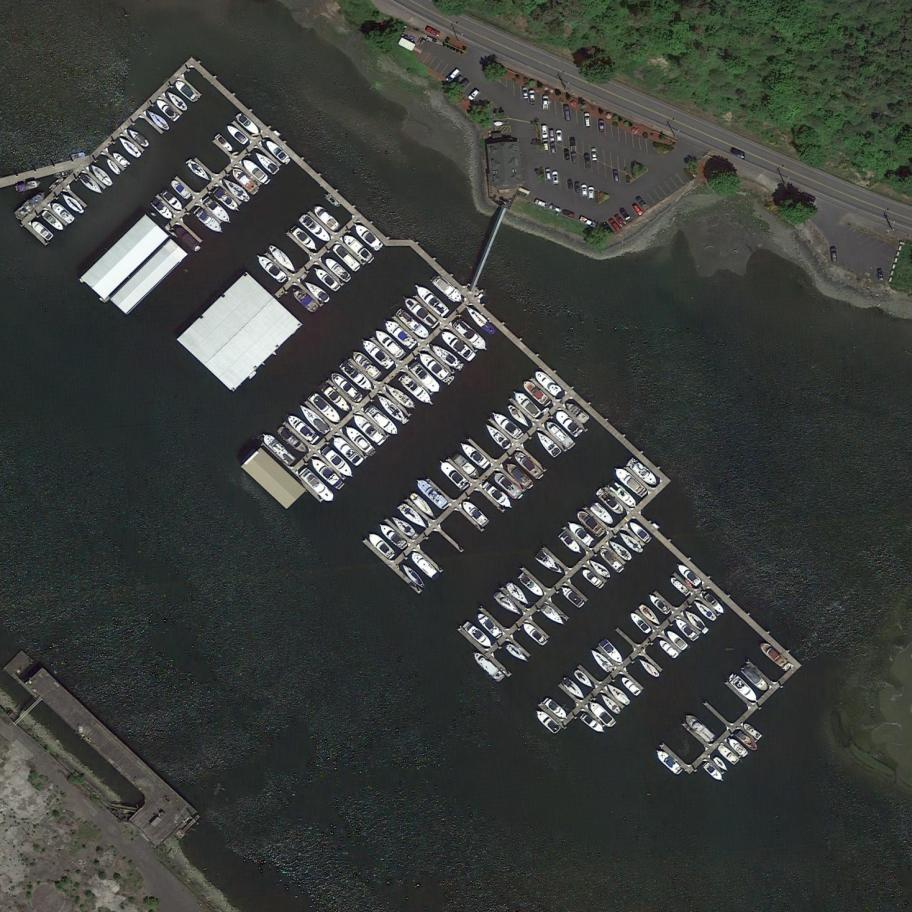ship: (451, 317, 492, 357), (298, 466, 338, 505), (258, 428, 298, 467), (399, 293, 440, 330), (398, 372, 437, 410), (411, 281, 450, 319), (364, 403, 402, 441), (408, 360, 445, 398), (351, 411, 388, 448), (439, 327, 477, 363), (319, 445, 357, 481), (415, 347, 452, 383), (469, 648, 506, 684), (394, 307, 432, 342), (329, 369, 365, 405), (308, 391, 344, 427), (429, 339, 466, 374), (339, 360, 376, 395), (624, 455, 662, 489), (383, 317, 419, 352), (414, 476, 450, 511), (308, 455, 344, 490), (298, 212, 334, 247), (613, 465, 649, 500), (462, 303, 499, 337), (358, 336, 395, 370), (330, 433, 365, 468), (461, 618, 496, 653), (481, 479, 517, 513), (296, 401, 331, 435), (342, 422, 376, 457), (489, 407, 524, 441), (456, 438, 492, 471), (13, 189, 49, 222), (373, 327, 407, 361), (254, 250, 288, 284), (543, 418, 577, 452), (431, 274, 466, 307), (397, 500, 432, 533), (275, 424, 310, 457), (265, 242, 300, 275), (192, 205, 227, 238), (758, 640, 793, 673), (351, 348, 384, 382), (436, 457, 470, 490), (376, 519, 410, 552), (285, 411, 319, 444), (682, 711, 716, 744), (340, 232, 375, 264), (375, 392, 408, 425), (383, 379, 416, 412), (202, 194, 235, 227), (320, 383, 353, 415), (352, 222, 385, 254), (574, 507, 607, 539), (512, 389, 544, 421), (512, 449, 544, 481), (229, 165, 261, 197), (595, 486, 627, 518), (491, 470, 524, 501), (652, 746, 685, 777), (460, 497, 491, 529), (531, 367, 563, 398), (239, 155, 271, 186), (311, 202, 342, 234), (289, 284, 321, 315), (220, 174, 252, 205), (729, 674, 761, 705), (553, 408, 585, 439), (565, 517, 596, 548), (493, 589, 524, 620), (587, 698, 618, 729), (289, 224, 321, 254), (475, 609, 505, 641), (451, 452, 482, 482), (170, 223, 201, 253), (741, 663, 771, 694), (608, 481, 639, 511), (534, 549, 565, 579), (532, 706, 563, 736), (311, 265, 343, 294), (483, 421, 513, 451), (533, 429, 563, 459), (504, 460, 534, 489), (408, 490, 437, 520), (366, 531, 396, 560), (234, 109, 263, 139), (323, 255, 353, 284), (212, 186, 242, 215), (409, 550, 438, 579), (521, 377, 550, 406), (504, 579, 533, 608), (517, 572, 547, 600), (504, 402, 532, 431), (253, 148, 281, 177), (539, 602, 568, 630), (682, 608, 711, 636), (587, 646, 615, 675), (302, 278, 332, 305), (598, 637, 625, 667), (263, 138, 291, 166), (144, 106, 172, 134), (521, 620, 549, 648), (616, 529, 645, 556), (673, 615, 700, 644), (559, 675, 588, 702), (400, 562, 428, 589), (389, 512, 417, 539), (116, 133, 144, 160), (78, 172, 106, 199), (153, 96, 181, 123), (150, 196, 177, 224), (589, 501, 617, 528), (597, 547, 625, 574), (558, 530, 585, 558), (675, 562, 703, 589), (542, 695, 570, 722), (60, 191, 87, 218), (88, 163, 115, 190), (636, 601, 663, 628), (49, 200, 77, 226), (173, 78, 200, 104), (186, 157, 212, 184), (607, 538, 634, 564), (559, 583, 586, 609), (691, 598, 718, 624), (605, 681, 632, 707), (579, 711, 606, 737), (563, 400, 591, 425), (160, 188, 186, 214), (626, 518, 652, 544), (586, 556, 613, 581), (40, 209, 66, 234), (646, 591, 672, 616), (637, 656, 663, 681), (504, 642, 531, 666), (165, 88, 190, 113), (628, 610, 653, 635), (703, 593, 728, 618), (734, 730, 760, 754), (127, 126, 152, 150), (225, 122, 250, 146), (599, 692, 624, 716), (580, 567, 606, 590), (169, 177, 193, 201), (30, 219, 55, 242), (716, 743, 741, 766), (702, 761, 726, 784), (665, 629, 689, 652), (726, 736, 749, 759), (572, 668, 595, 691), (619, 675, 642, 697), (214, 132, 236, 154), (658, 638, 680, 660), (668, 575, 690, 596), (742, 722, 763, 742), (15, 179, 44, 193), (104, 156, 123, 177), (110, 150, 131, 169), (713, 755, 731, 774), (47, 176, 66, 193), (53, 169, 73, 179)
small-vehicle: (578, 214, 598, 229), (445, 67, 461, 84), (619, 207, 634, 225), (635, 196, 650, 213), (424, 24, 442, 38), (729, 147, 747, 161), (607, 216, 621, 233), (455, 77, 470, 92), (612, 212, 626, 228), (600, 221, 614, 236), (451, 73, 465, 87), (467, 88, 480, 102), (631, 203, 644, 217), (547, 203, 562, 214), (533, 197, 548, 208), (829, 246, 838, 264), (563, 103, 571, 122), (561, 209, 576, 219), (583, 111, 591, 129), (568, 137, 577, 153), (541, 124, 549, 140), (876, 268, 885, 282), (583, 153, 591, 168), (544, 167, 552, 182), (580, 183, 588, 198), (551, 170, 559, 185), (549, 141, 557, 155), (542, 95, 549, 111), (529, 89, 536, 105), (573, 180, 581, 194), (598, 119, 605, 134), (522, 86, 529, 101), (591, 147, 598, 162), (613, 168, 620, 183), (588, 186, 595, 201), (555, 129, 562, 143), (542, 139, 549, 152), (570, 152, 577, 165), (563, 148, 570, 161), (549, 129, 555, 142), (567, 178, 573, 191)
